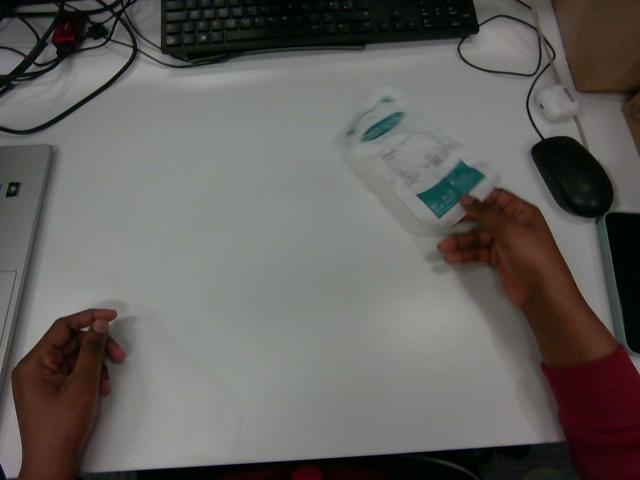gallipot: (337, 88, 498, 234)
